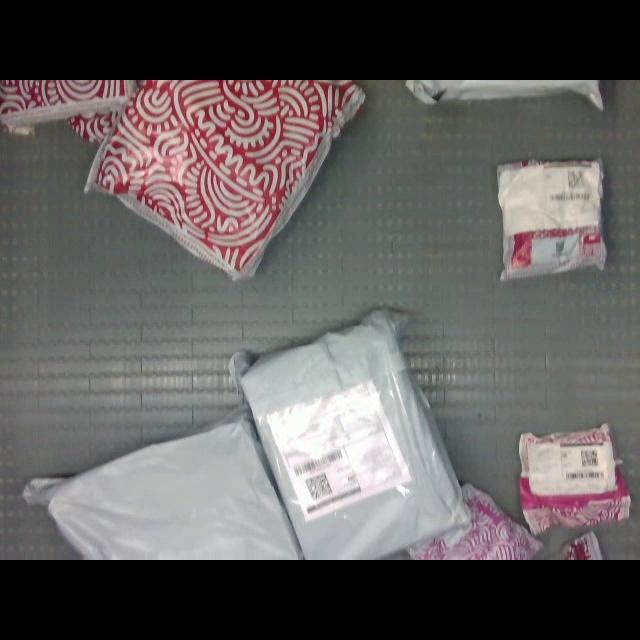mailer: (230, 310, 470, 559), (498, 161, 606, 280), (520, 424, 630, 533), (411, 484, 541, 559)
